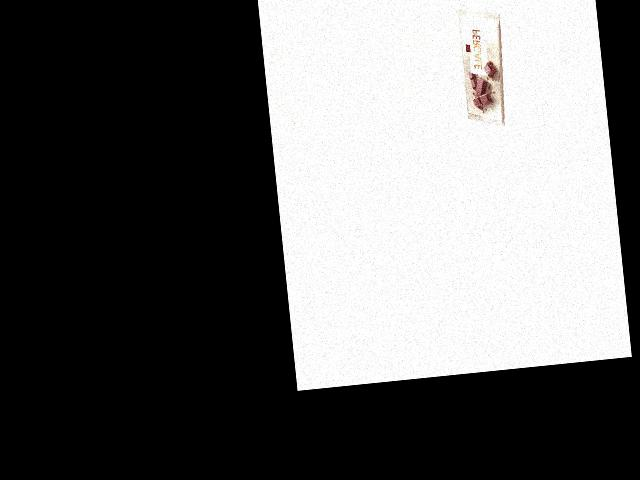chocolate: (457, 4, 510, 132)
